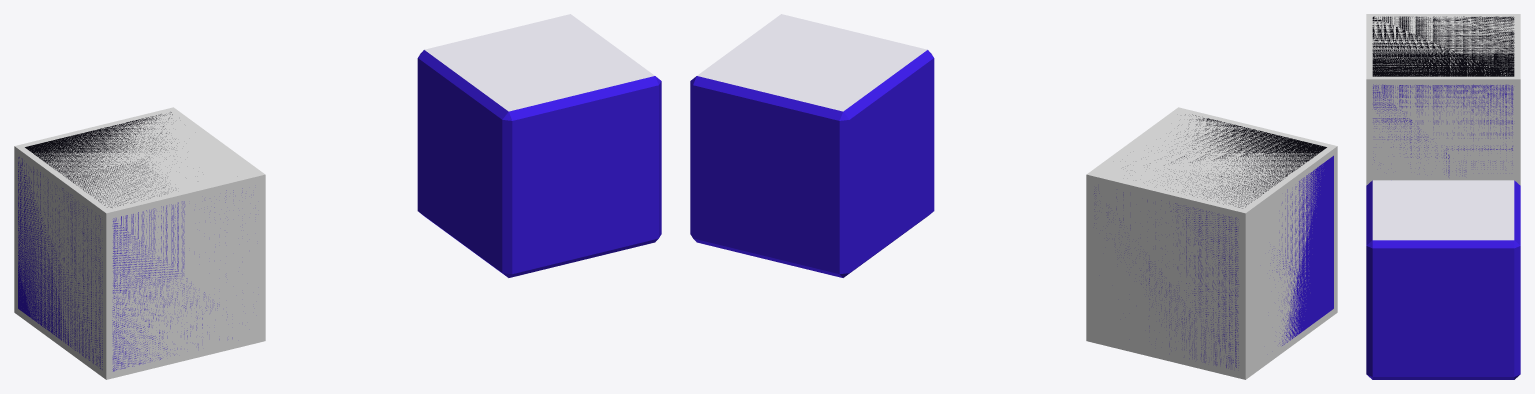
Rendered from SİYAH_BEYAZ.glb.
3 renders of one model, left to right at view 1: azimuth 30°, elevation 25°; view 2: azimuth 150°, elevation 25°; view 3: azimuth 270°, elevation 25°, orthographic. The views are drawn at different scales.
Visible parts, largest first — view 1: Block-colonly.001, Block, Block.001; view 2: Block, Block-colonly.001, Block.001; view 3: Block, Block-colonly.001, Block.001.
Boxes of the visible parts, x1,y1,x2,y2 form: Block-colonly.001: (14, 107, 265, 379); Block: (417, 14, 661, 277); Block.001: (18, 112, 242, 371); Block: (690, 14, 934, 277); Block-colonly.001: (1086, 107, 1337, 379); Block.001: (1094, 114, 1333, 368); Block: (1366, 180, 1520, 379); Block-colonly.001: (1366, 14, 1520, 185); Block.001: (1372, 16, 1514, 176).
Size of what is drawn, in the model's own units: 7.02 by 2 by 2.
